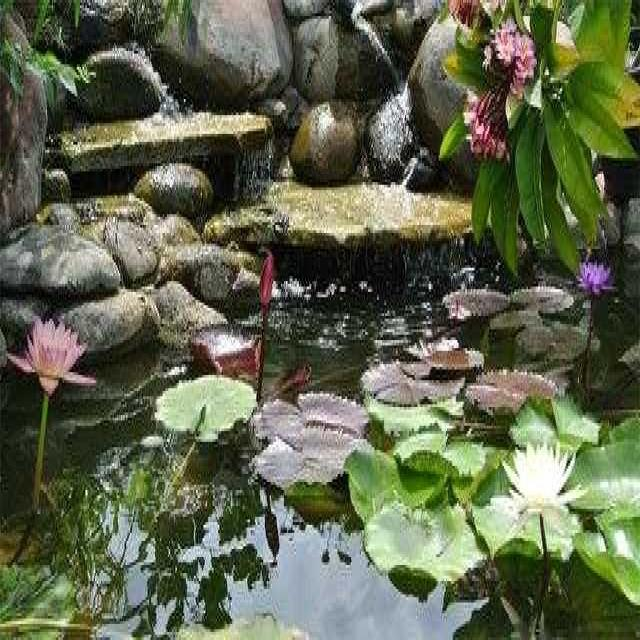Ponds: (1, 1, 640, 629)
